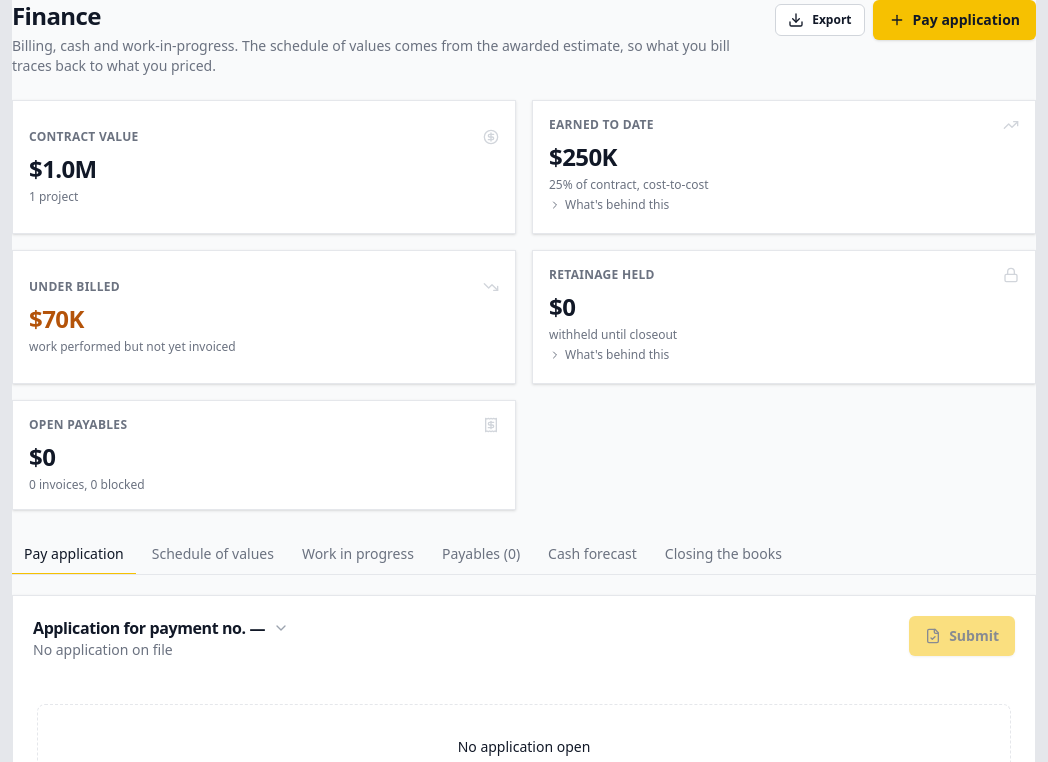
Test: the finance page › draws only months the database dated
Step 1. Click the tab "Cash forecast" → (592, 554), box [536,534,649,574]
(page scrolled)
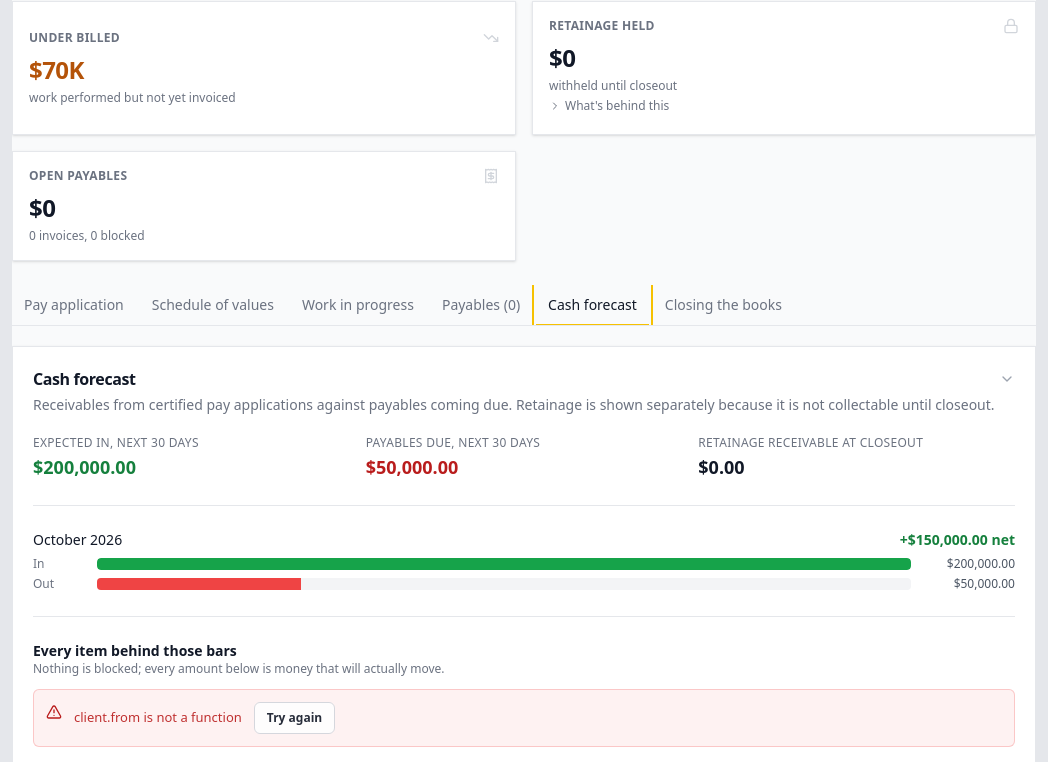
Now the text "October 2026" is shown, box [33,530,122,550]
